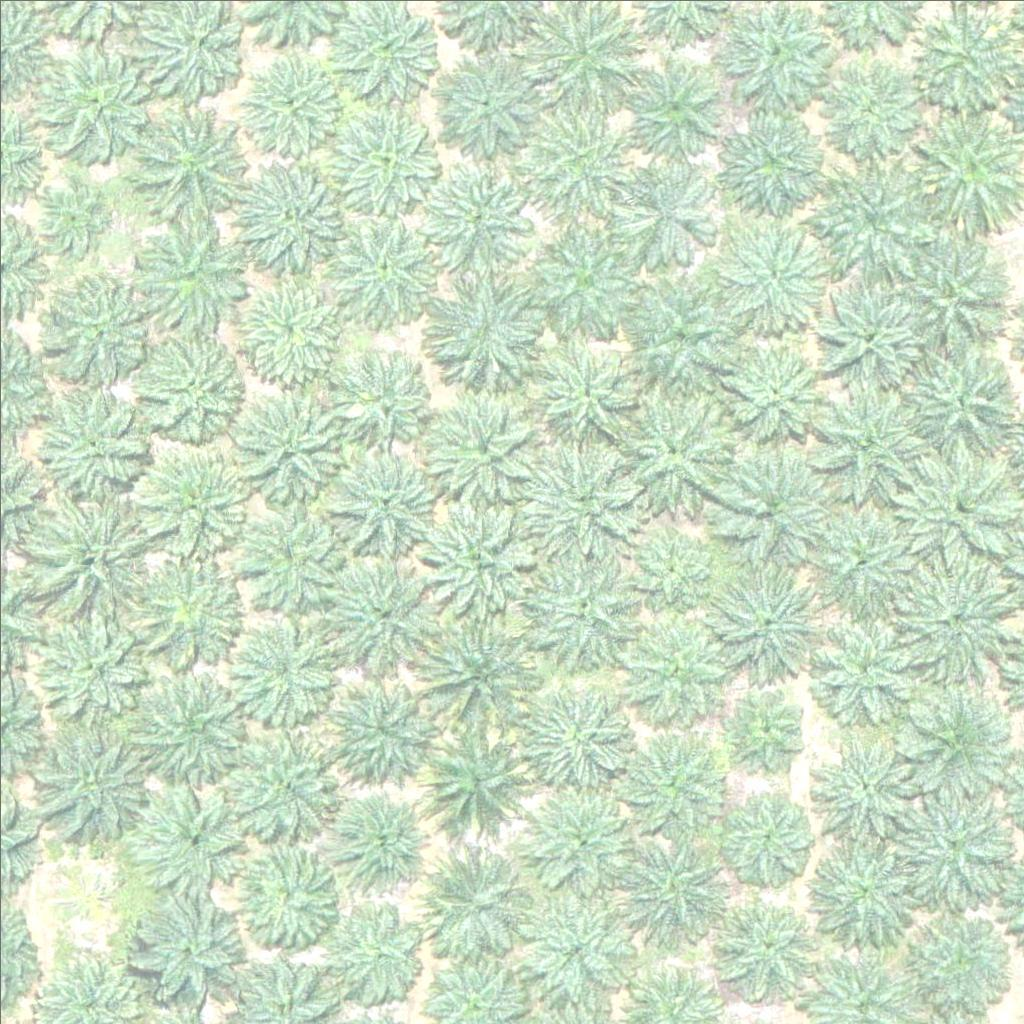Kelapa_Sawit: (889, 777, 1014, 903), (896, 556, 1021, 682), (604, 385, 729, 511), (518, 538, 643, 664), (525, 675, 638, 789), (614, 832, 727, 946), (807, 502, 920, 616), (810, 609, 923, 723), (328, 99, 441, 213), (434, 44, 547, 158), (134, 663, 247, 776), (228, 725, 341, 838), (899, 682, 1012, 795), (811, 278, 924, 391), (814, 382, 927, 495), (715, 98, 828, 211), (524, 446, 637, 559), (430, 269, 543, 382), (427, 389, 540, 502), (422, 493, 535, 606), (325, 210, 438, 323), (37, 46, 150, 159), (31, 496, 144, 609), (716, 561, 828, 675), (714, 447, 826, 561), (626, 268, 738, 382), (531, 217, 643, 331), (417, 158, 529, 272), (40, 721, 152, 834), (134, 777, 246, 890), (132, 894, 244, 1007), (324, 666, 436, 779), (422, 847, 534, 960), (417, 722, 529, 835), (521, 892, 633, 1005), (810, 838, 922, 951), (904, 340, 1016, 453), (897, 242, 1009, 355), (815, 155, 927, 268), (527, 98, 639, 211), (422, 617, 534, 730), (327, 557, 439, 670), (331, 448, 443, 561), (239, 154, 351, 267), (233, 271, 345, 384), (232, 385, 344, 498), (134, 215, 246, 328), (139, 101, 251, 214), (235, 846, 335, 947), (330, 787, 430, 888), (327, 901, 427, 1002), (813, 736, 913, 837), (908, 912, 1008, 1013), (720, 225, 820, 326), (626, 54, 726, 155), (626, 612, 726, 713), (333, 356, 433, 457), (245, 513, 345, 614), (235, 622, 335, 723), (135, 564, 235, 665), (143, 447, 243, 548), (140, 338, 240, 439), (48, 280, 148, 381), (42, 393, 142, 494), (725, 1, 825, 102), (822, 58, 922, 159), (916, 8, 1016, 109), (529, 794, 629, 894), (621, 734, 721, 834), (727, 343, 827, 443), (620, 158, 720, 258), (534, 347, 634, 447), (238, 52, 338, 152), (46, 621, 146, 721), (722, 790, 810, 878), (720, 895, 808, 983), (732, 687, 807, 763), (630, 528, 705, 604), (36, 179, 111, 254)
